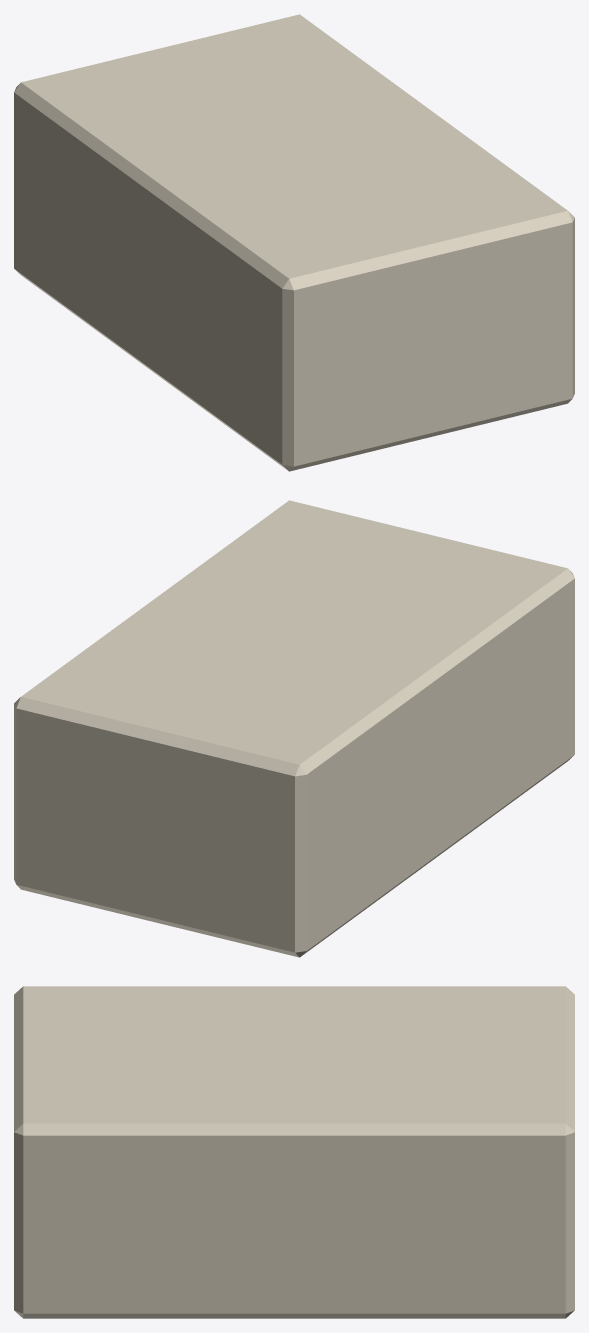
The model's file is Paper_Box.fbx.
3 renders of one model, top to bottom at view 1: azimuth 30°, elevation 25°; view 2: azimuth 150°, elevation 25°; view 3: azimuth 270°, elevation 25°, orthographic.
Parts seen in each view (by area): view 1: Paper_Box; view 2: Paper_Box; view 3: Paper_Box.
Part boxes in pixels (<box>): Paper_Box: <box>14,14,574,471</box>; Paper_Box: <box>14,500,574,957</box>; Paper_Box: <box>14,986,574,1318</box>.
Size of the model in its own units: 32.69 by 20.59 by 53.69.
